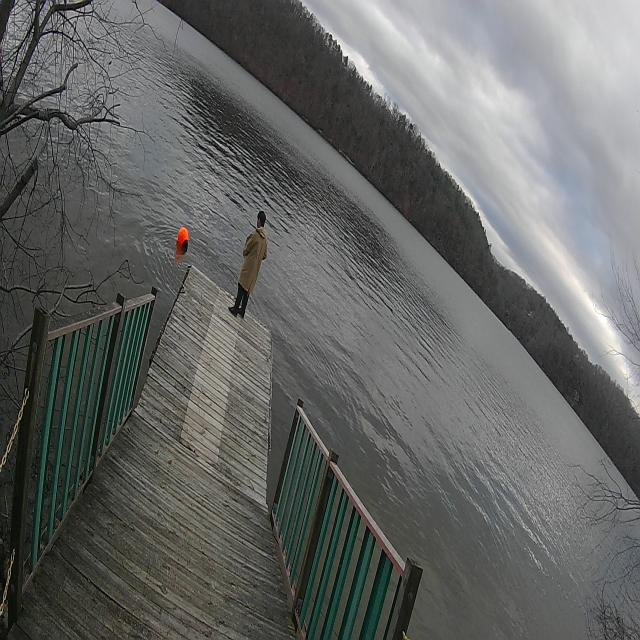Buoy: (175, 224, 191, 250)
